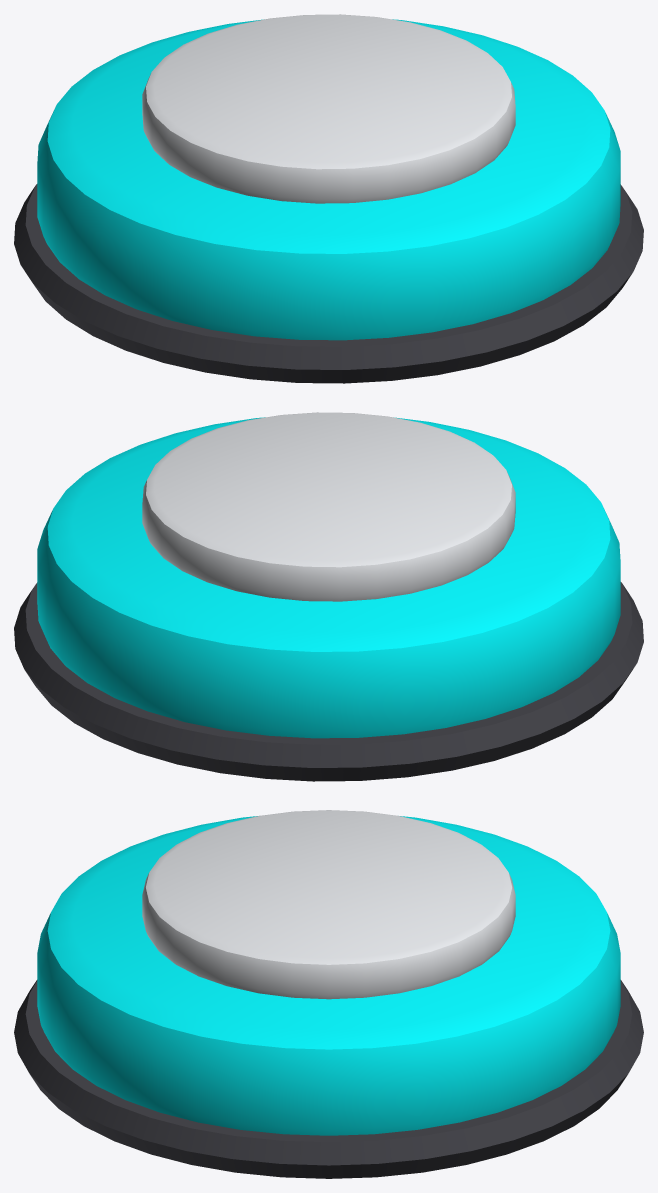
The model's file is air_puck.glb.
3 views of the same model, one above another, from view 1: azimuth 30°, elevation 25°; view 2: azimuth 150°, elevation 25°; view 3: azimuth 270°, elevation 25° (orthographic).
Visible parts, largest first — view 1: Cylinder; view 2: Cylinder; view 3: Cylinder.
Boxes of the visible parts, box(x1,y1,x2,y2) form: Cylinder: box(14, 14, 643, 383); Cylinder: box(14, 412, 643, 781); Cylinder: box(14, 810, 643, 1178).
Bounding box in the file's own units: 1.08 × 0.3146 × 1.08.
